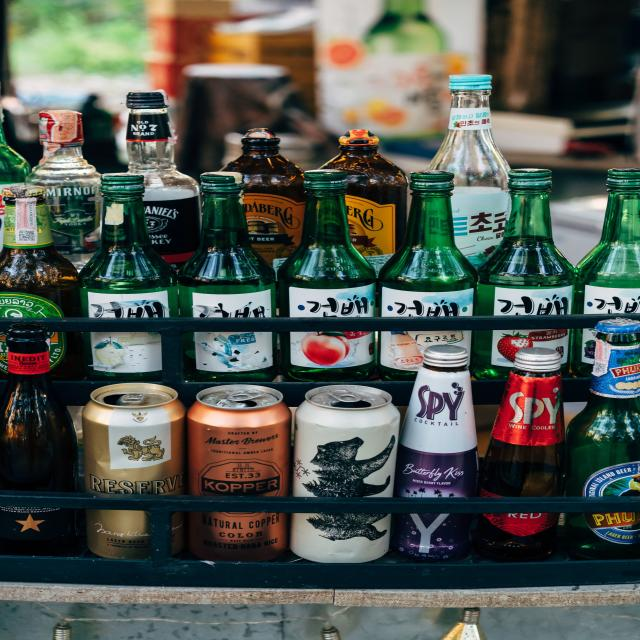Bottle: (430, 75, 509, 268), (475, 169, 574, 316), (278, 170, 375, 318), (379, 171, 477, 317), (345, 0, 445, 141), (179, 172, 275, 318), (81, 174, 178, 318), (0, 324, 77, 492), (567, 318, 639, 497), (395, 345, 478, 500), (127, 92, 199, 268), (479, 348, 564, 497), (293, 385, 400, 498), (27, 110, 100, 269), (222, 128, 305, 265), (321, 130, 407, 256), (0, 185, 80, 319), (574, 169, 639, 314), (0, 107, 30, 192), (441, 608, 486, 639), (321, 621, 341, 639), (53, 620, 71, 639)
